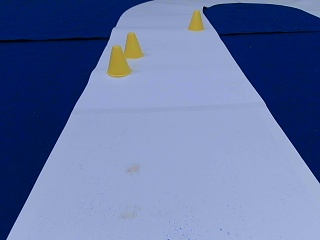cone: (107, 46, 131, 76), (123, 33, 143, 58), (188, 10, 204, 31)
